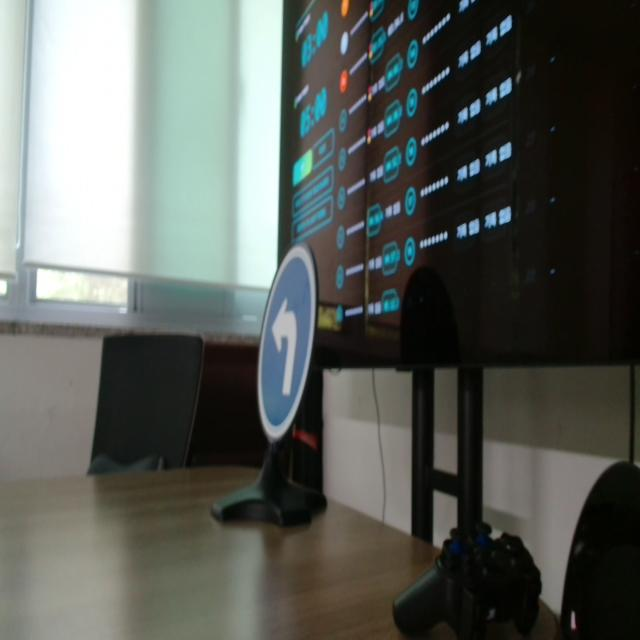left_direction: (252, 241, 320, 433)
